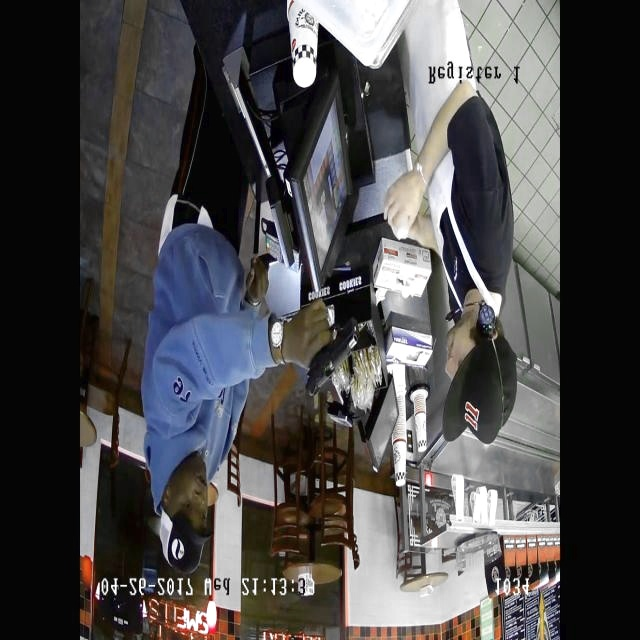gun: (286, 306, 369, 407)
